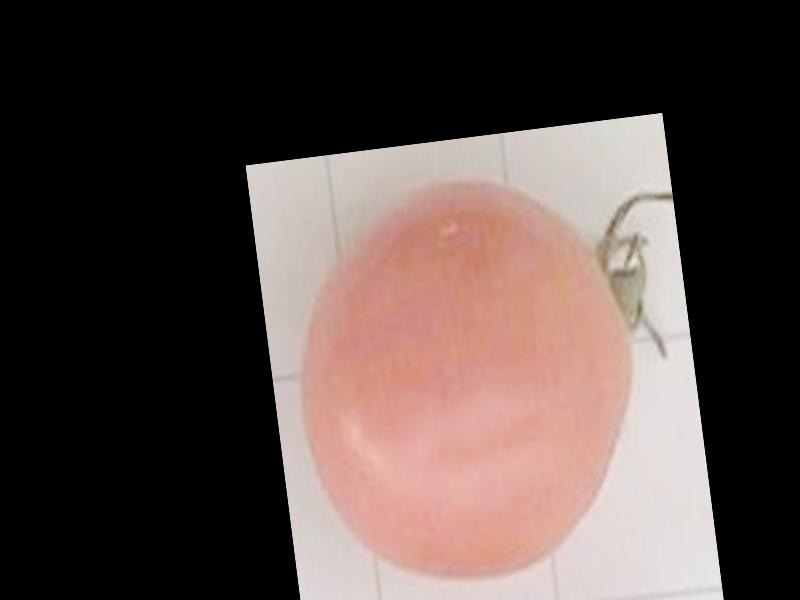Tomato: (276, 161, 658, 598)
